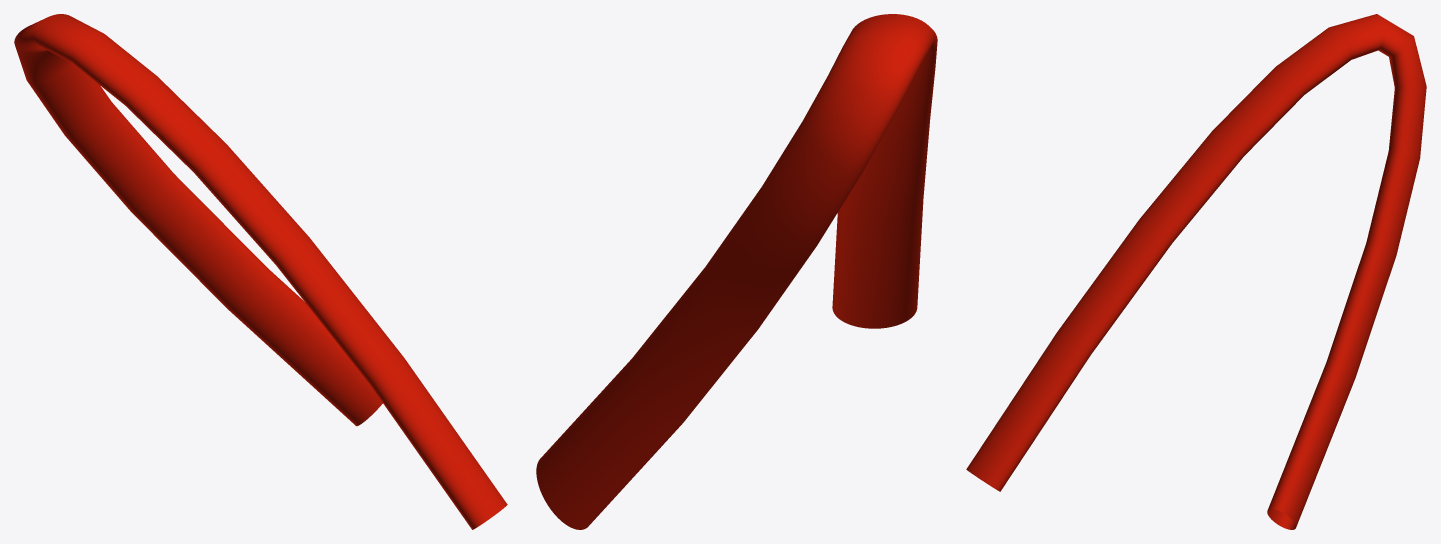
The model's file is fil_uncutted_orange.obj.
3 views of the same model, side by side, from view 1: azimuth 30°, elevation 25°; view 2: azimuth 150°, elevation 25°; view 3: azimuth 270°, elevation 25° (orthographic). The views are drawn at different scales.
Parts seen in each view (by area): view 1: BezierCurve_BezierCurve.003; view 2: BezierCurve_BezierCurve.003; view 3: BezierCurve_BezierCurve.003.
Part boxes in pixels (x1=…): BezierCurve_BezierCurve.003: x1=14, y1=14, x2=507, y2=529; BezierCurve_BezierCurve.003: x1=536, y1=14, x2=937, y2=529; BezierCurve_BezierCurve.003: x1=966, y1=14, x2=1426, y2=529.
Size of the model in its own units: 0.1776 by 0.2372 by 0.2488.
